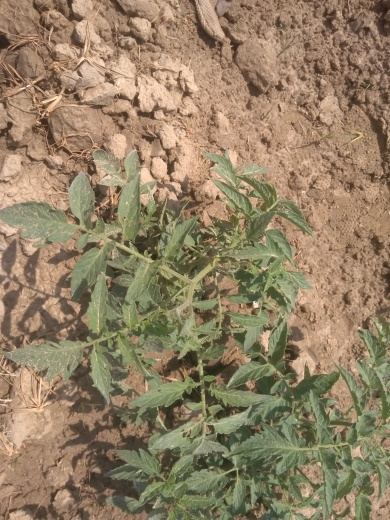tomato diseased leaf: (2, 196, 81, 251), (147, 409, 206, 459)
tomato plant: (8, 165, 368, 517)
